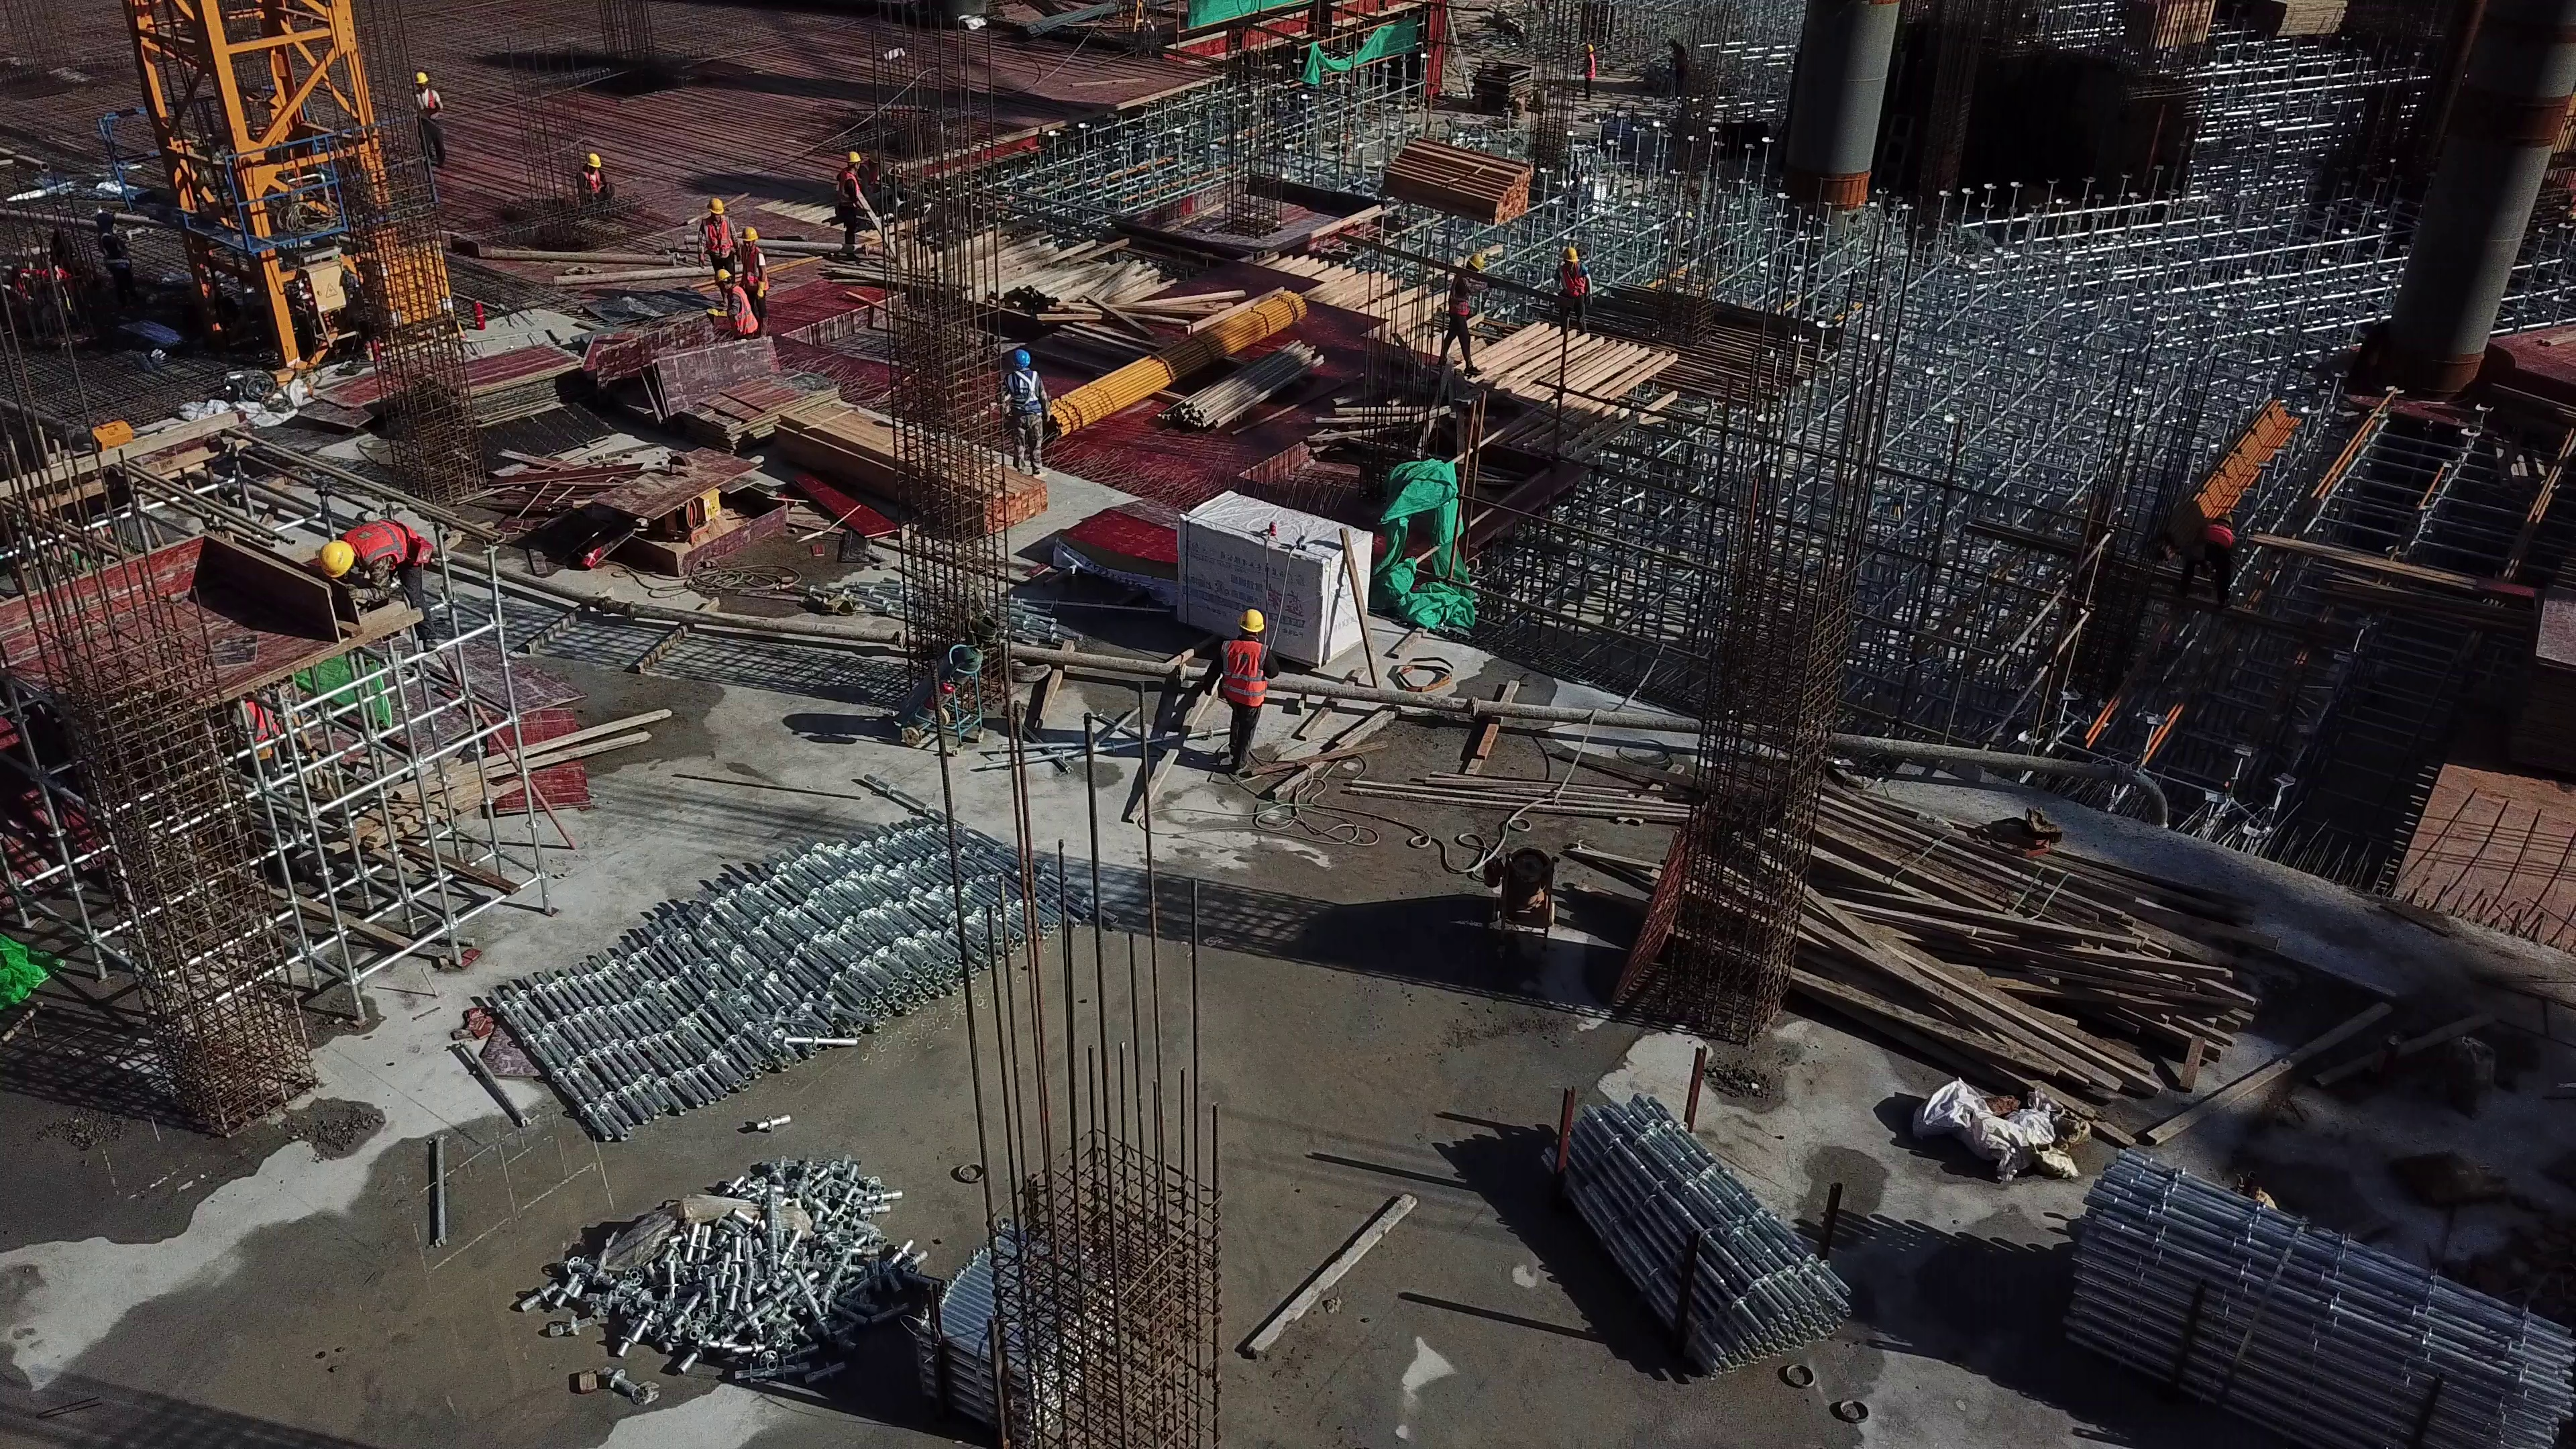helmet: (319, 539, 355, 580), (1237, 608, 1266, 633), (1010, 349, 1032, 370), (708, 197, 724, 215), (739, 226, 758, 244), (714, 268, 732, 284), (1469, 255, 1485, 272), (1563, 246, 1580, 262), (845, 150, 861, 164), (587, 154, 602, 168), (414, 72, 428, 84)
person: (311, 517, 436, 638), (1202, 605, 1285, 779), (1436, 248, 1489, 378), (999, 347, 1047, 478), (2172, 510, 2235, 610), (87, 209, 143, 309), (735, 223, 775, 323), (704, 266, 760, 339), (408, 66, 447, 167), (1551, 246, 1593, 333), (694, 195, 735, 283), (831, 146, 863, 244), (575, 147, 617, 205), (1664, 38, 1688, 95), (858, 147, 883, 193), (1578, 42, 1597, 102)
vest: (346, 518, 438, 569), (1221, 638, 1269, 707), (1005, 369, 1046, 415), (726, 285, 758, 336), (740, 244, 771, 292), (701, 216, 732, 256), (834, 167, 859, 208), (1448, 275, 1473, 316), (1560, 261, 1589, 296), (580, 166, 605, 193)
